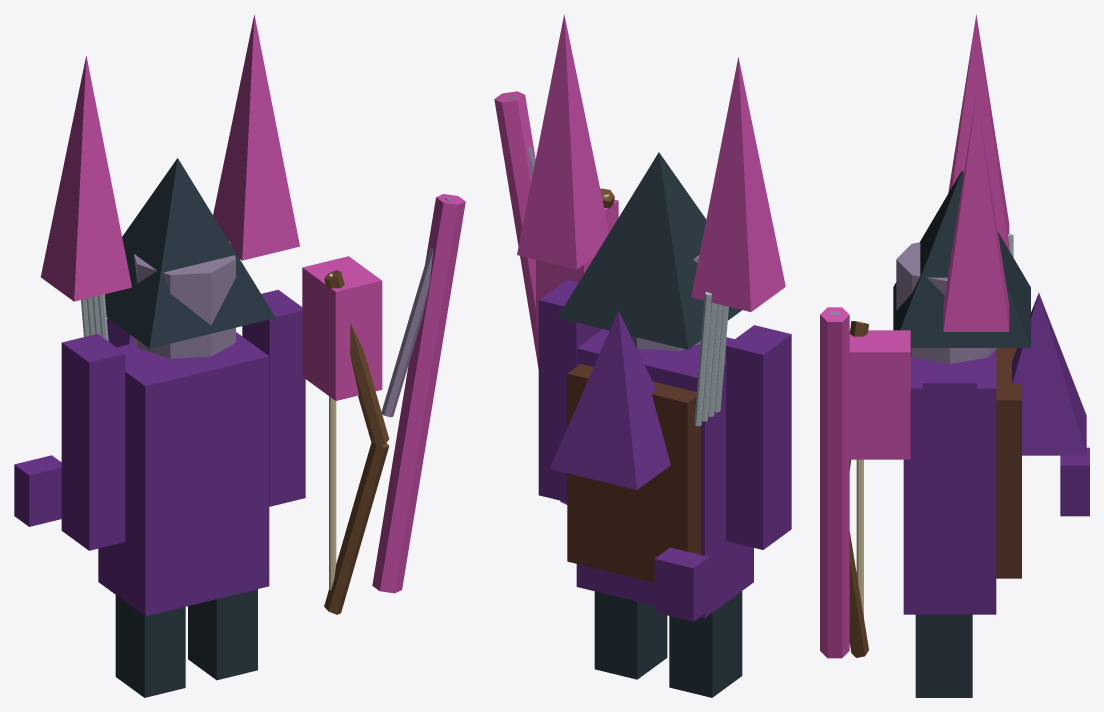
Rendered from archer.obj.
The picture shows the model from 3 angles, left to right: view 1: azimuth 30°, elevation 25°; view 2: azimuth 150°, elevation 25°; view 3: azimuth 270°, elevation 25°; orthographic projection. The views are drawn at different scales.
Visible parts, largest first — view 1: ranged; view 2: ranged; view 3: ranged.
Boxes of the visible parts, <box> form: ranged: <box>14,14,465,697</box>; ranged: <box>494,15,791,697</box>; ranged: <box>820,15,1089,697</box>.
Bounding box in the file's own units: 1.15 × 2.07 × 0.82.
